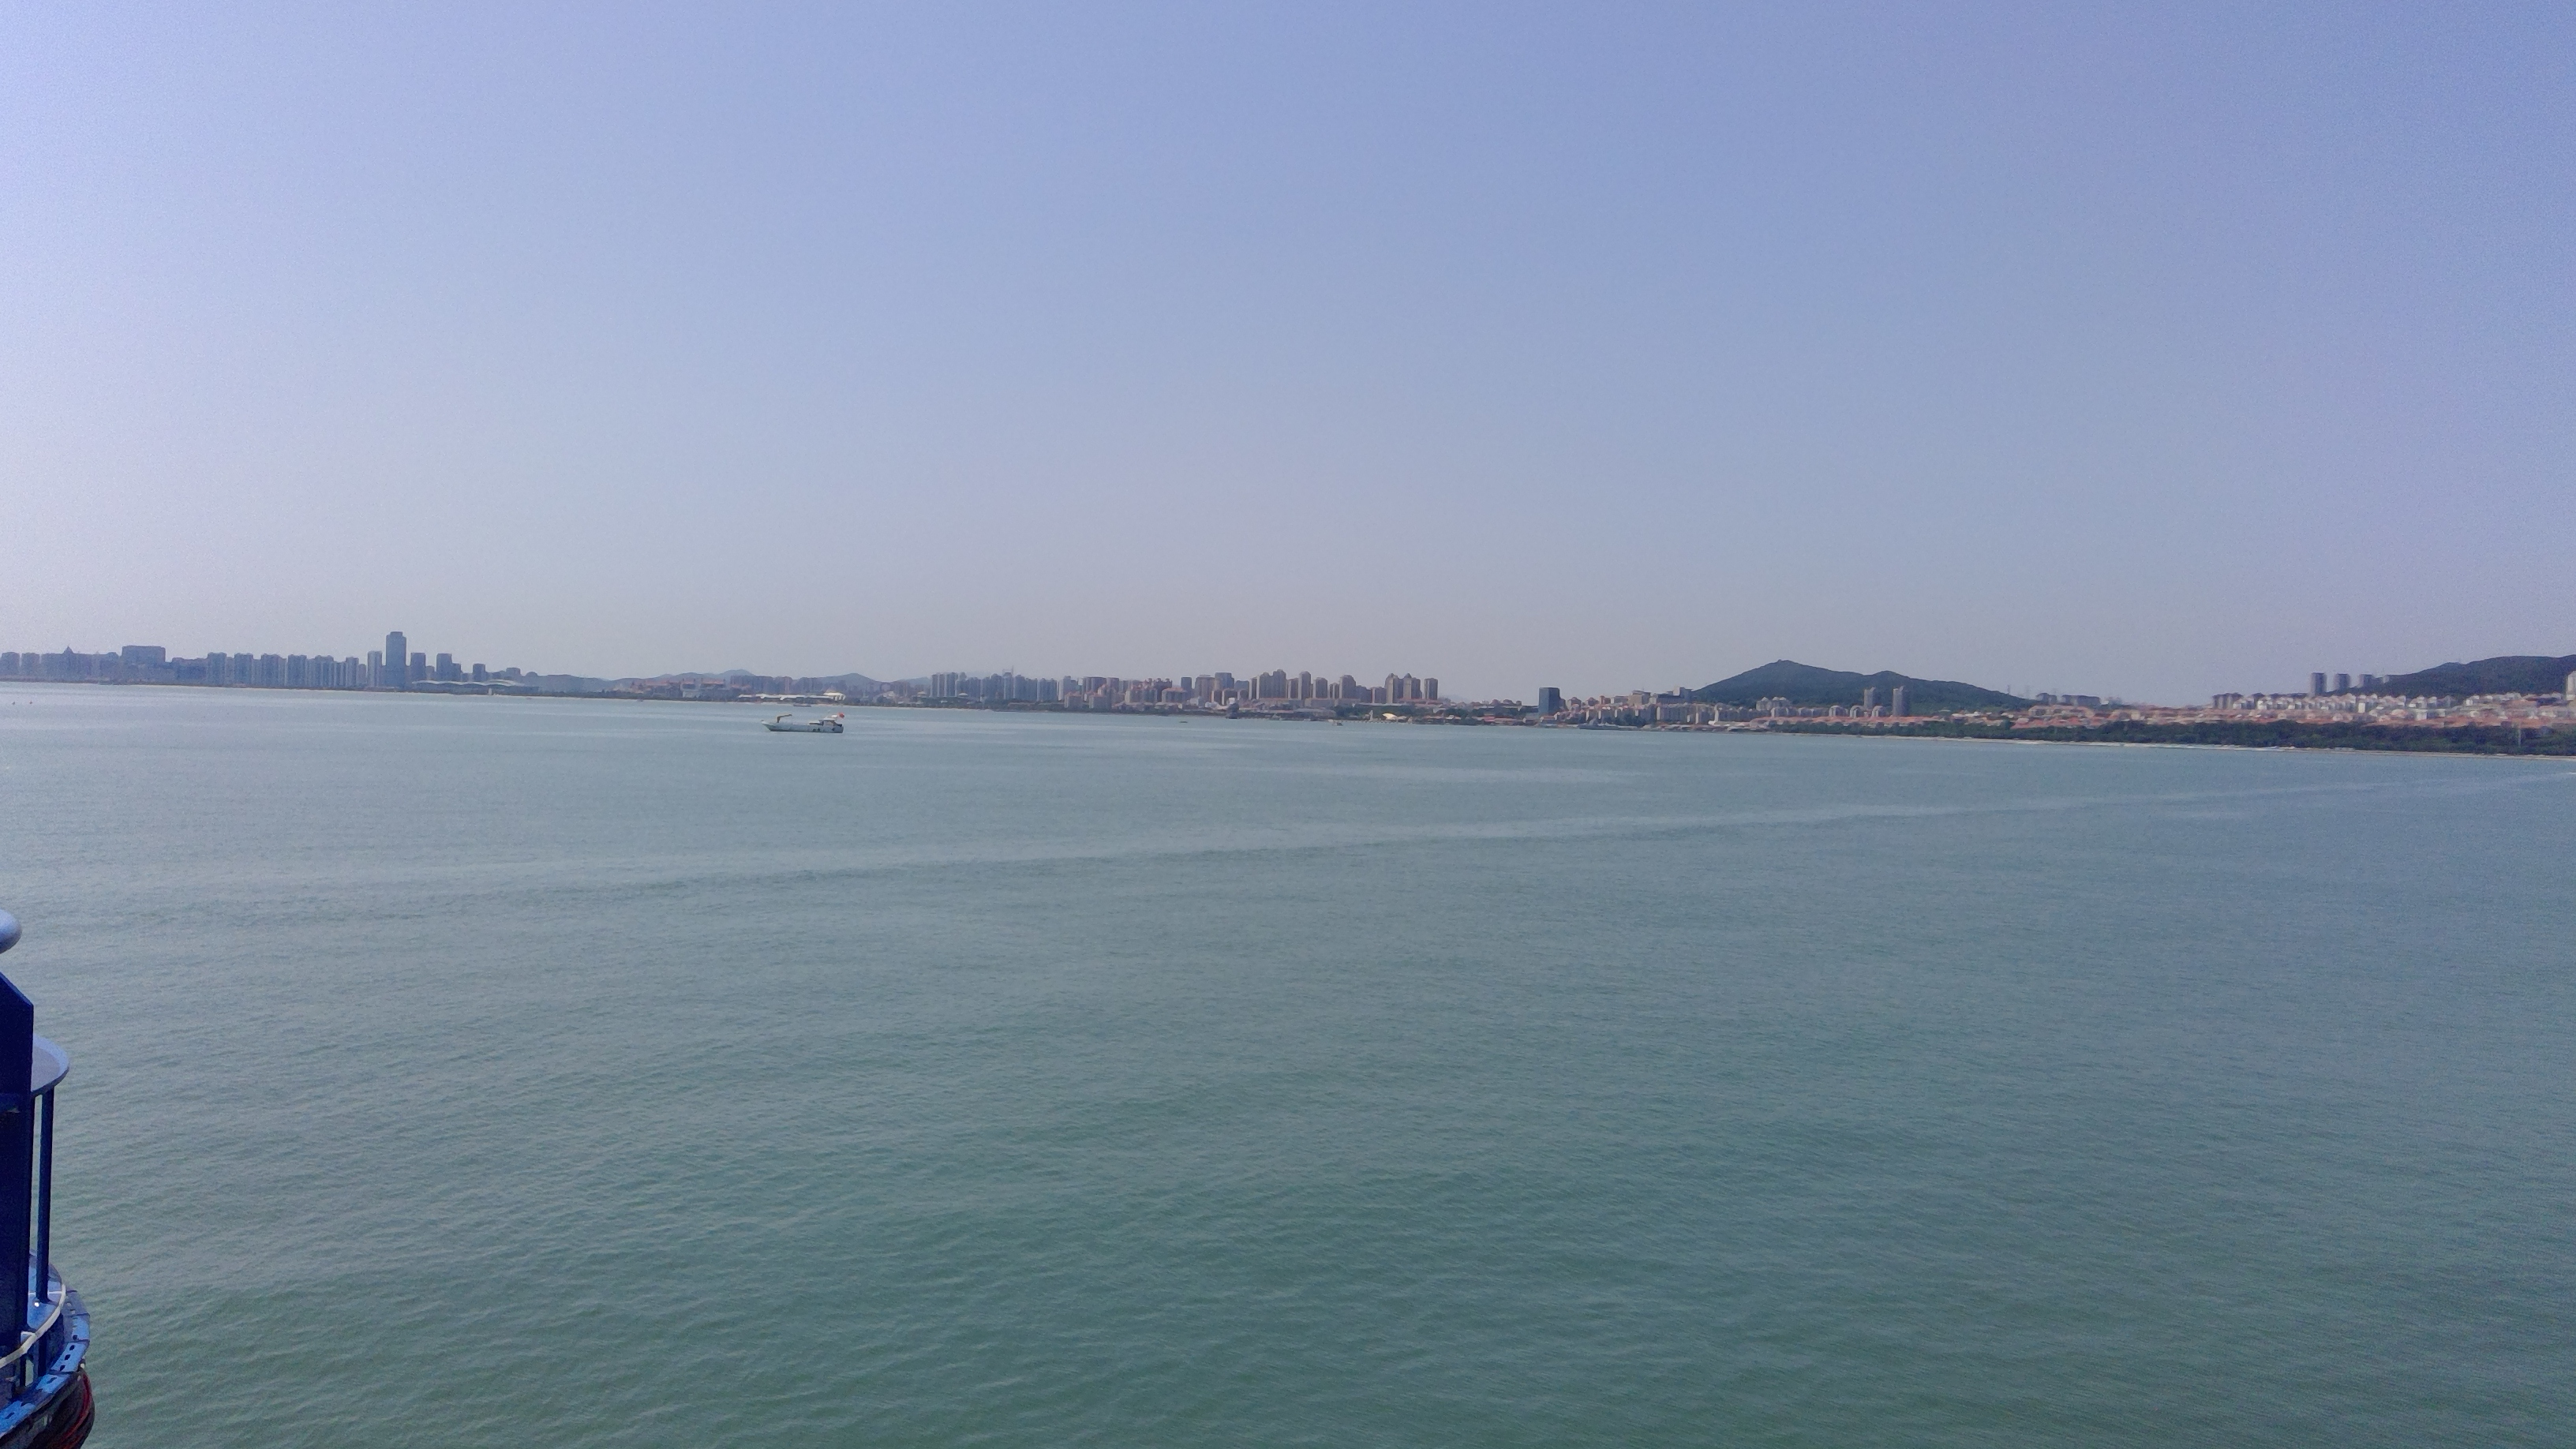ship: (764, 709, 855, 747)
